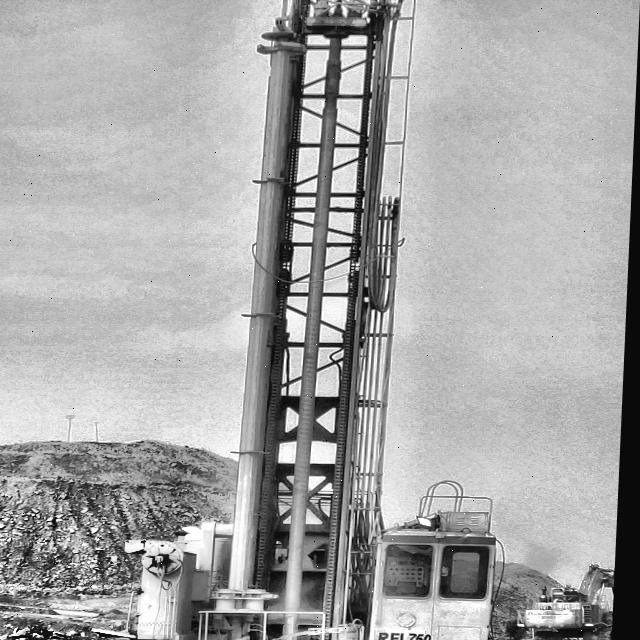excavator: (513, 574, 620, 640)
